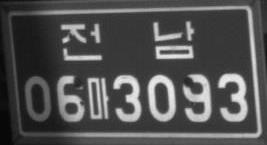0: (146, 73, 176, 122), (24, 74, 52, 123)
3: (217, 72, 248, 122), (112, 73, 142, 122)
6: (56, 74, 85, 122)
9: (182, 73, 212, 123)
마: (86, 76, 109, 119)
전남_D: (60, 20, 194, 59)
